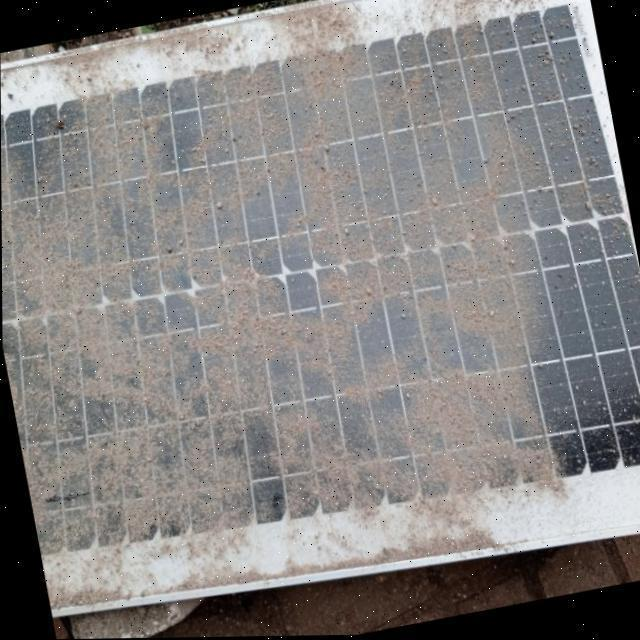Anomaly Solar Panel: (0, 0, 640, 623)
Surface Contaminant: (0, 0, 640, 600)
